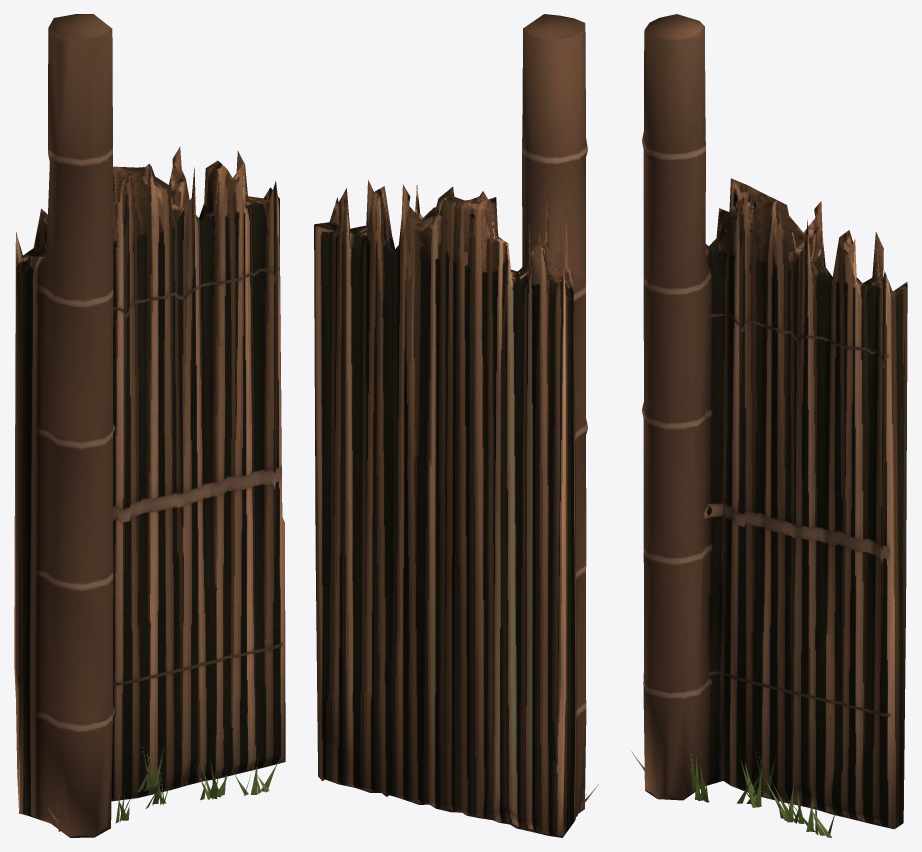
Rendered from fence_reed_end_w_tall.glb.
3 views of the same model, side by side, from view 1: azimuth 30°, elevation 25°; view 2: azimuth 150°, elevation 25°; view 3: azimuth 330°, elevation 25° (orthographic). The views are drawn at different scales.
Visible parts, largest first — view 1: fence_reed_end_w_tall_lod0; view 2: fence_reed_end_w_tall_lod0; view 3: fence_reed_end_w_tall_lod0.
Boxes of the visible parts, <box> form: fence_reed_end_w_tall_lod0: <box>14,14,285,837</box>; fence_reed_end_w_tall_lod0: <box>314,14,598,837</box>; fence_reed_end_w_tall_lod0: <box>631,14,907,837</box>.
Bounding box in the file's own units: 0.6376 × 1.87 × 0.1935.
1 material, 1 textured.
